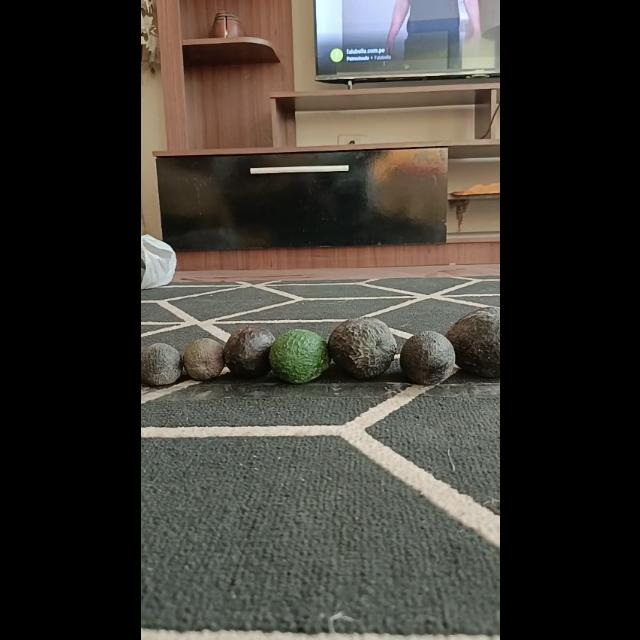Primera: (327, 316, 397, 378), (444, 306, 498, 378)
Segunda: (268, 329, 328, 383), (399, 330, 456, 384), (222, 325, 276, 377)
Tercera: (182, 336, 225, 379), (140, 343, 182, 387)
